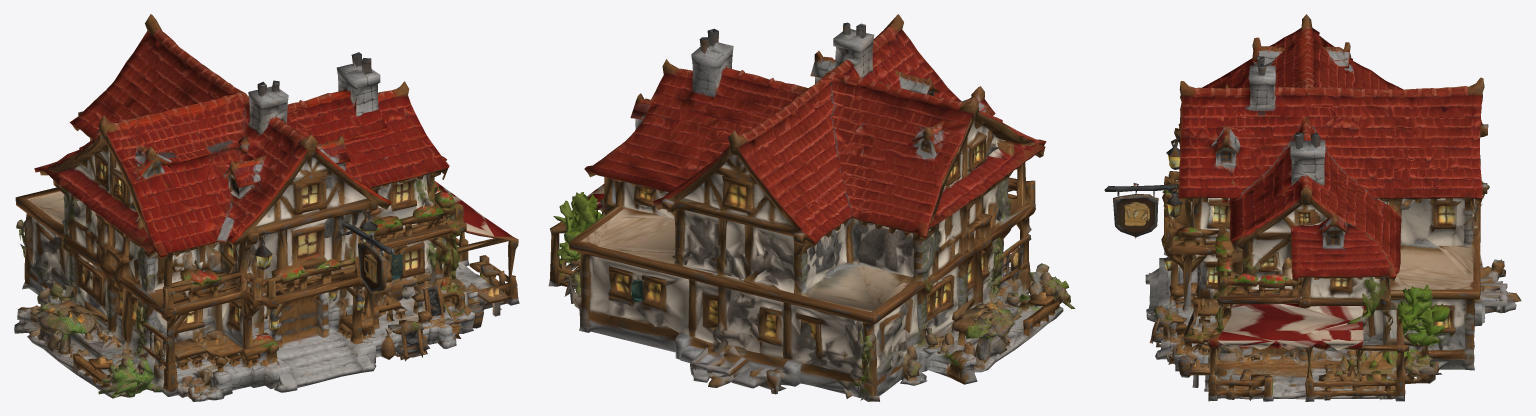
The model's file is inn_lod0.glb.
The picture shows the model from 3 angles, left to right: view 1: azimuth 30°, elevation 25°; view 2: azimuth 150°, elevation 25°; view 3: azimuth 270°, elevation 25°; orthographic projection. The views are drawn at different scales.
Visible parts, largest first — view 1: Mesh_0; view 2: Mesh_0; view 3: Mesh_0.
Part boxes in pixels (x1=…): Mesh_0: x1=14, y1=14, x2=519, y2=401; Mesh_0: x1=548, y1=14, x2=1074, y2=401; Mesh_0: x1=1104, y1=14, x2=1521, y2=401.
Size of the model in its own units: 1.9 by 1.12 by 1.76.
Materials: 1 (1 with a texture image).
